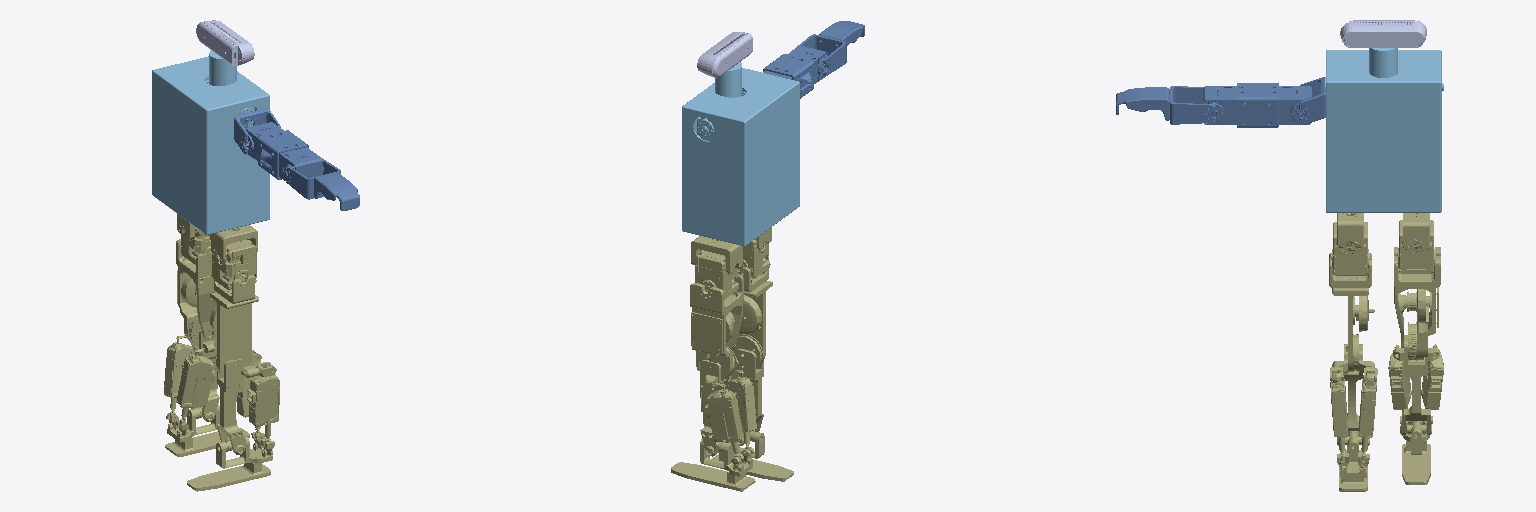
URDF robot description (4R_body):
<?xml version="1.0" ?><robot name="4R_body">  
  <link name="body_link">    
    <visual>      
      <origin xyz="0 0 0" rpy="0 -0 0"/>      
      <geometry>        
        <mesh filename="package:///meshes/body_link_visual.stl"/>        
      </geometry>      
      <material name="body_link_material">        
        <color rgba="0.59240232552230254193 0.77493742445477598046 0.89675162167089728094 1.0"/>        
      </material>      
    </visual>    
    <collision>      
      <origin xyz="0 0 0" rpy="0 -0 0"/>      
      <geometry>        
        <mesh filename="package:///meshes/body_link_collision.stl"/>        
      </geometry>      
    </collision>    
    <inertial>      
      <origin xyz="-0.011392539113329219411 1.8329806415983037757e-07 0.37864501400110933682" rpy="0 0 0"/>      
      <mass value="1.3010345634555100514"/>      
      <inertia ixx="0.004762472517127859864" ixy="1.2254736467186099066e-09" ixz="2.5710312085007240265e-05" iyy="0.0036676689183223290004" iyz="7.2555792614915947183e-09" izz="0.0032052577163904517193"/>      
    </inertial>    
  </link>  

  <link name="neck_link">    
    <visual>      
      <origin xyz="0 0 0" rpy="0 -0 0"/>      
      <geometry>        
        <mesh filename="package:///meshes/neck_link_visual.stl"/>        
      </geometry>      
      <material name="neck_link_material">        
        <color rgba="0.61568627450980395466 0.81176470588235294379 0.92941176470588238168 1.0"/>        
      </material>      
    </visual>    
    <collision>      
      <origin xyz="0 0 0" rpy="0 -0 0"/>      
      <geometry>        
        <mesh filename="package:///meshes/neck_link_collision.stl"/>        
      </geometry>      
    </collision>    
    <inertial>      
      <origin xyz="3.067903593042405049e-19 -5.1123361372111250322e-20 -0.020000000000000000416" rpy="0 0 0"/>      
      <mass value="0.018378317023500286703"/>      
      <inertia ixx="3.4842226023719301187e-06" ixy="2.6492046803872183431e-38" ixz="-4.2946359314041097936e-38" iyy="3.4842226023719301187e-06" iyz="-3.2653968785718786279e-70" izz="2.06756066514378241e-06"/>      
    </inertial>    
  </link>  

  <link name="head_link">    
    <visual>      
      <origin xyz="0 0 0" rpy="0 -0 0"/>      
      <geometry>        
        <mesh filename="package:///meshes/head_link_visual.stl"/>        
      </geometry>      
      <material name="head_link_material">        
        <color rgba="0.79607843137254896693 0.82352941176470584317 0.93725490196078442562 1.0"/>        
      </material>      
    </visual>    
    <collision>      
      <origin xyz="0 0 0" rpy="0 -0 0"/>      
      <geometry>        
        <mesh filename="package:///meshes/head_link_collision.stl"/>        
      </geometry>      
    </collision>    
    <inertial>      
      <origin xyz="0.0011121374382810690108 0.0023003089133866896736 -0.012472157860955830275" rpy="0 0 0"/>      
      <mass value="0.075015538754886992856"/>      
      <inertia ixx="6.8018019107715040579e-06" ixy="6.7244456377383520563e-07" ixz="2.3059386910262827346e-09" iyy="4.5222250439264427752e-05" iyz="-1.2119065455131516884e-08" izz="4.5708811148256761484e-05"/>      
    </inertial>    
  </link>  

  <joint name="head" type="fixed">    
    <origin xyz="0 -6.505213034913026604e-19 -0.039999999999999980016" rpy="-3.6199375412562401434e-16 -2.4218742848029192401e-16 -5.5511151231257722251e-17"/>    
    <parent link="neck_link"/>    
    <child link="head_link"/>    
    <axis xyz="0 0 1"/>    
    <limit effort="1" velocity="20"/>    
    <joint_properties friction="0.0"/>    
  </joint>  

  <joint name="neck" type="fixed">    
    <origin xyz="-0.00089999999999998414602 -4.4507968385753129991e-18 0.44079999999999996962" rpy="-3.141592653589793116 8.5053965662326763145e-17 1.57079632679489678"/>    
    <parent link="body_link"/>    
    <child link="neck_link"/>    
    <axis xyz="0 0 1"/>    
    <limit effort="1" velocity="20"/>    
    <joint_properties friction="0.0"/>    
  </joint>  

  <link name="left_3r+rh5_leg">    
    <visual>      
      <origin xyz="0 0 0" rpy="0 -0 0"/>      
      <geometry>        
        <mesh filename="package:///meshes/left_3r+rh5_leg_visual.stl"/>        
      </geometry>      
      <material name="left_3r+rh5_leg_material">        
        <color rgba="0.71712717993919605775 0.71457448616025487365 0.54799362657198125159 1.0"/>        
      </material>      
    </visual>    
    <collision>      
      <origin xyz="0 0 0" rpy="0 -0 0"/>      
      <geometry>        
        <mesh filename="package:///meshes/left_3r+rh5_leg_collision.stl"/>        
      </geometry>      
    </collision>    
    <inertial>      
      <origin xyz="-0.0058058945689643641497 0.0012819461612545224923 -0.12293655421554991469" rpy="0 0 0"/>      
      <mass value="0.33284223931512424421"/>      
      <inertia ixx="0.0020723404158643214841" ixy="-2.5006724028867826048e-06" ixz="-0.00016838020890165854206" iyy="0.0020895913239501293264" iyz="-1.4913270975287094475e-05" izz="0.00012793227628371946171"/>      
    </inertial>    
  </link>  

  <joint name="left_hip_yaw" type="revolute">    
    <origin xyz="-0.006400000000000070563 0.033999999999999967748 0.28550000000000003153" rpy="-1.0062408617649953783e-14 -1.7373496713084857328e-15 -1.0702550091647256269e-13"/>    
    <parent link="body_link"/>    
    <child link="left_3r+rh5_leg"/>    
    <axis xyz="0 0 1"/>    
    <limit effort="1" velocity="20" lower="-1.570796326794896558" upper="1.570796326794896558"/>    
    <joint_properties friction="0.0"/>    
  </joint>  

  <link name="right_3r+rh5_leg">    
    <visual>      
      <origin xyz="0 0 0" rpy="0 -0 0"/>      
      <geometry>        
        <mesh filename="package:///meshes/right_3r+rh5_leg_visual.stl"/>        
      </geometry>      
      <material name="right_3r+rh5_leg_material">        
        <color rgba="0.71712718175007705845 0.71457448383750632459 0.54799361853656014532 1.0"/>        
      </material>      
    </visual>    
    <collision>      
      <origin xyz="0 0 0" rpy="0 -0 0"/>      
      <geometry>        
        <mesh filename="package:///meshes/right_3r+rh5_leg_collision.stl"/>        
      </geometry>      
    </collision>    
    <inertial>      
      <origin xyz="-0.0061633136198055403498 -0.0013701892908356114089 -0.12293655515520661436" rpy="0 0 0"/>      
      <mass value="0.33284223244644678408"/>      
      <inertia ixx="0.0020722624883763550441" ixy="2.9935021834292540521e-06" ixz="-0.00015980824900195924124" iyy="0.002088167369264168436" iyz="1.2441059842190334235e-05" izz="0.00012643048500212105941"/>      
    </inertial>    
  </link>  

  <joint name="right_hip_yaw" type="revolute">    
    <origin xyz="-0.0064000000000002613826 -0.033999999999999974687 0.28549999999999997602" rpy="-2.4175737836120826254e-16 2.1811947592303793928e-16 -1.3443908046660001512e-14"/>    
    <parent link="body_link"/>    
    <child link="right_3r+rh5_leg"/>    
    <axis xyz="0 0 1"/>    
    <limit effort="1" velocity="20" lower="-1.570796326794896558" upper="1.570796326794896558"/>    
    <joint_properties friction="0.0"/>    
  </joint>  

  <link name="left_op3_arm">    
    <visual>      
      <origin xyz="0 0 0" rpy="0 -0 0"/>      
      <geometry>        
        <mesh filename="package:///meshes/left_op3_arm_visual.stl"/>        
      </geometry>      
      <material name="left_op3_arm_material">        
        <color rgba="0.43679090525622349395 0.55632699296835252945 0.73866672762452778578 1.0"/>        
      </material>      
    </visual>    
    <collision>      
      <origin xyz="0 0 0" rpy="0 -0 0"/>      
      <geometry>        
        <mesh filename="package:///meshes/left_op3_arm_collision.stl"/>        
      </geometry>      
    </collision>    
    <inertial>      
      <origin xyz="-0.00020428504385901186764 0.0084974083799592651373 -0.07750087407094199965" rpy="0 0 0"/>      
      <mass value="0.15851190405198534172"/>      
      <inertia ixx="0.00031790513312416246363" ixy="1.6282384685203375029e-08" ixz="1.7003539351512639206e-07" iyy="0.00032542543411612391687" iyz="-2.1568541493911607245e-06" izz="3.1121013419237748951e-05"/>      
    </inertial>    
  </link>  

  <joint name="left_sho_pitch" type="revolute">    
    <origin xyz="-0.00090000000000018190449 0.058000000000000113964 0.42079999999999984084" rpy="-1.570796326794871911 3.5360603334311235812e-14 -3.1415926535897371608"/>    
    <parent link="body_link"/>    
    <child link="left_op3_arm"/>    
    <axis xyz="0 0 1"/>    
    <limit effort="1" velocity="20" lower="-1.570796326794896558" upper="1.570796326794896558"/>    
    <joint_properties friction="0.0"/>    
  </joint>  

  <link name="right_op3_arm">    
    <visual>      
      <origin xyz="0 0 0" rpy="0 -0 0"/>      
      <geometry>        
        <mesh filename="package:///meshes/right_op3_arm_visual.stl"/>        
      </geometry>      
      <material name="right_op3_arm_material">        
        <color rgba="0.4367909052562232719 0.55632699296835219638 0.73866672762452734169 1.0"/>        
      </material>      
    </visual>    
    <collision>      
      <origin xyz="0 0 0" rpy="0 -0 0"/>      
      <geometry>        
        <mesh filename="package:///meshes/right_op3_arm_collision.stl"/>        
      </geometry>      
    </collision>    
    <inertial>      
      <origin xyz="0.0002042847840719570708 0.0084974123651775437804 -0.077500874070941902505" rpy="0 0 0"/>      
      <mass value="0.15851190405198542499"/>      
      <inertia ixx="0.00031790513375913511535" ixy="-1.6266918505923392231e-08" ixz="-1.70033986411818844e-07" iyy="0.0003254254341329448799" iyz="-2.2241497042743636124e-06" izz="3.1121014071038790476e-05"/>      
    </inertial>    
  </link>  

  <joint name="right_sho_pitch" type="revolute">    
    <origin xyz="-0.00090000000000000062589 -0.057999999999999982125 0.42079999999999995186" rpy="-1.5707963267948972241 1.3877787807856806753e-15 6.3545304591998415249e-17"/>    
    <parent link="body_link"/>    
    <child link="right_op3_arm"/>    
    <axis xyz="0 0 1"/>    
    <limit effort="1" velocity="20" lower="-1.570796326794896558" upper="1.570796326794896558"/>    
    <joint_properties friction="0.0"/>    
  </joint>  


</robot>

--- Facts derived from the render (not from the file) ---
The picture shows the robot from 3 angles, left to right: view 1: azimuth 30°, elevation 25°; view 2: azimuth 150°, elevation 25°; view 3: azimuth 270°, elevation 25°; orthographic projection.
Model 4R_body with 7 links and 6 joints (4 revolute, 2 fixed), rooted at body_link, posed all joints at 0.
Visible links, largest first — view 1: body_link, right_3r+rh5_leg, left_3r+rh5_leg, right_op3_arm, head_link, neck_link; view 2: body_link, left_3r+rh5_leg, right_3r+rh5_leg, right_op3_arm, head_link, neck_link; view 3: body_link, left_3r+rh5_leg, right_3r+rh5_leg, right_op3_arm, head_link, neck_link.
Boxes of the visible links, bbox=[...] form: body_link: bbox=[152, 56, 269, 234]; right_3r+rh5_leg: bbox=[187, 225, 279, 491]; left_3r+rh5_leg: bbox=[164, 214, 249, 456]; right_op3_arm: bbox=[234, 108, 359, 210]; head_link: bbox=[196, 20, 254, 65]; neck_link: bbox=[209, 50, 236, 85]; body_link: bbox=[682, 68, 799, 245]; left_3r+rh5_leg: bbox=[671, 236, 756, 491]; right_3r+rh5_leg: bbox=[700, 227, 793, 481]; right_op3_arm: bbox=[763, 21, 864, 98]; head_link: bbox=[697, 32, 752, 77]; neck_link: bbox=[715, 62, 741, 97]; body_link: bbox=[1325, 50, 1443, 212]; left_3r+rh5_leg: bbox=[1388, 213, 1443, 484]; right_3r+rh5_leg: bbox=[1329, 213, 1377, 491]; right_op3_arm: bbox=[1116, 77, 1325, 127]; head_link: bbox=[1340, 20, 1426, 47]; neck_link: bbox=[1369, 48, 1397, 77].
Size in the robot's own frame: 0.1078 by 0.3398 by 0.5188 metres.
Meshes: 7 distinct files referenced, 6 mesh visuals loaded (6 binary STL); not drawn: 1 (reference not matched to a file when rendering).